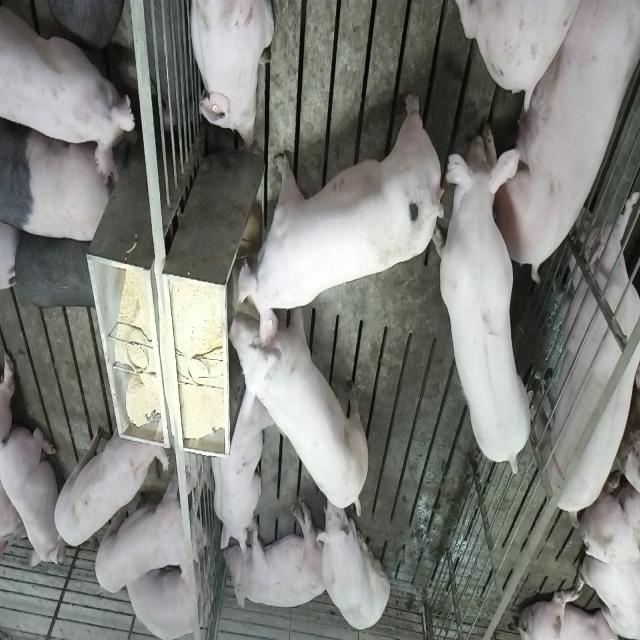Feeding: (236, 90, 443, 344), (229, 296, 373, 520)
Lateral_lying: (478, 4, 638, 280), (222, 500, 330, 612)
Sitting: (314, 490, 390, 634)
Standing: (434, 128, 532, 478), (537, 203, 640, 529), (1, 0, 140, 180), (51, 403, 168, 548), (2, 108, 120, 244)
Sternal_lying: (187, 0, 275, 150), (207, 374, 271, 558), (2, 418, 60, 568), (125, 552, 206, 638)
